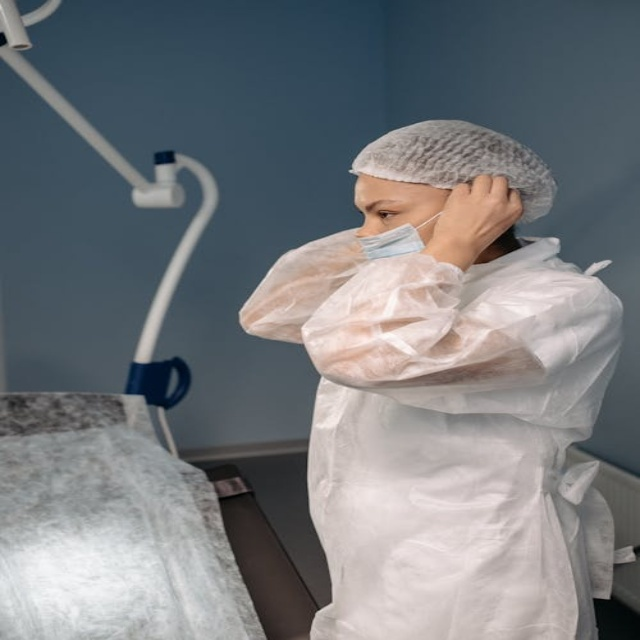Mascara: (357, 206, 447, 260)
Sin_gafas: (352, 196, 401, 222)
Sin_guantes: (428, 169, 527, 269)
